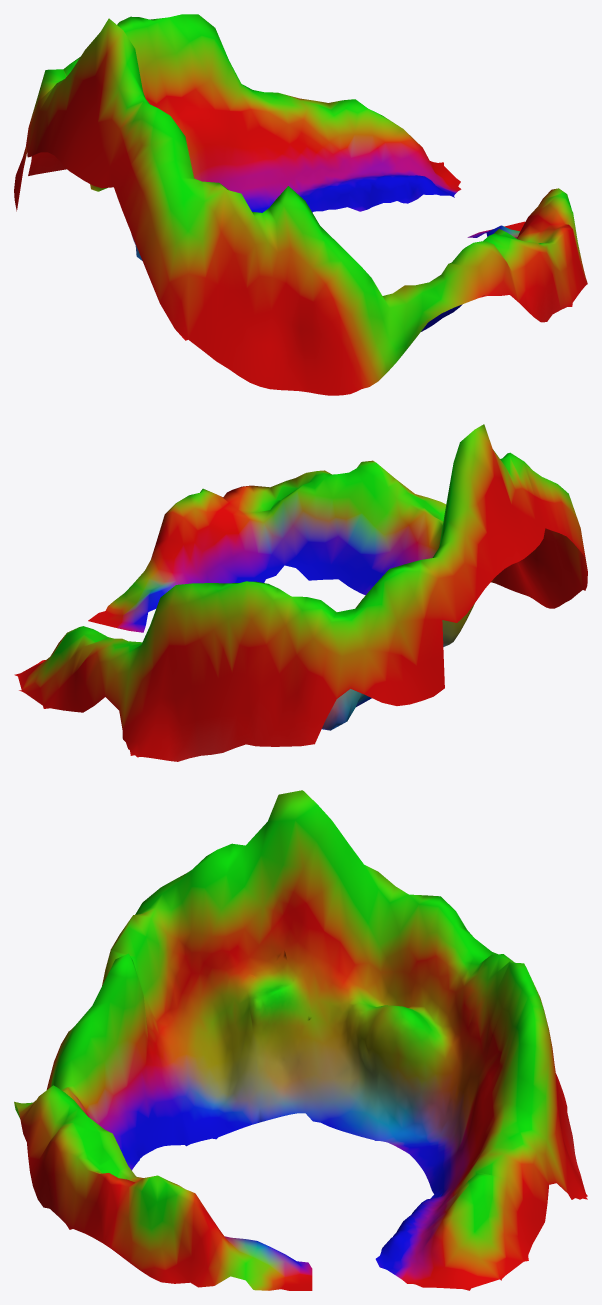
Rendered from fbllagoon.fbx.
3 views of the same model, one above another, from view 1: azimuth 30°, elevation 25°; view 2: azimuth 150°, elevation 25°; view 3: azimuth 270°, elevation 25° (orthographic). The views are drawn at different scales.
Parts seen in each view (by area): view 1: Plane; view 2: Plane; view 3: Plane.
Boxes of the visible parts, x1=… form: Plane: x1=14, y1=14, x2=587, y2=395; Plane: x1=14, y1=424, x2=587, y2=761; Plane: x1=14, y1=790, x2=587, y2=1290.
Size of the model in its own units: 5441 by 3481 by 5943.
